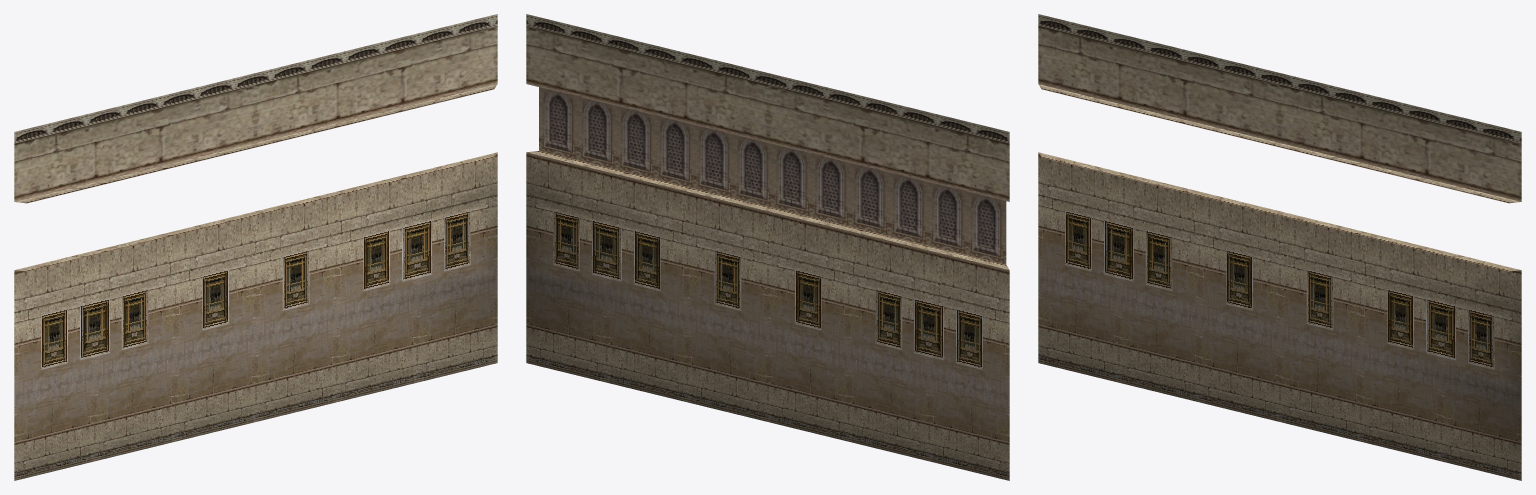
The model's file is M11Z1_Buildings042.glb.
The picture shows the model from 3 angles, left to right: view 1: azimuth 30°, elevation 25°; view 2: azimuth 150°, elevation 25°; view 3: azimuth 330°, elevation 25°; orthographic projection.
Parts seen in each view (by area): view 1: M11Z1_BUILDINGS042; view 2: M11Z1_BUILDINGS042; view 3: M11Z1_BUILDINGS042.
Part boxes in pixels (x1=…): M11Z1_BUILDINGS042: x1=14, y1=14, x2=497, y2=480; M11Z1_BUILDINGS042: x1=526, y1=14, x2=1009, y2=480; M11Z1_BUILDINGS042: x1=1038, y1=14, x2=1521, y2=480.
Size of the model in its own units: 24 by 16.56 by 0.4.
4 materials, 4 textured.
